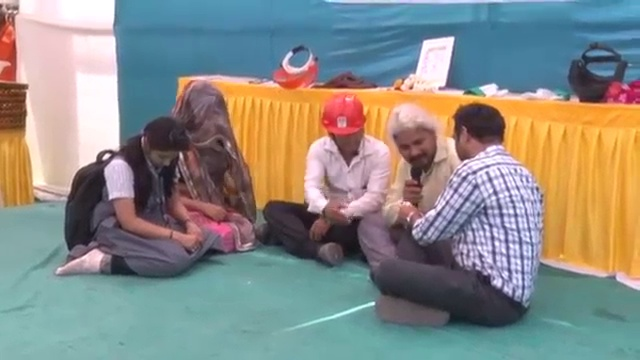helmet: (317, 93, 366, 138)
helmet_off: (385, 104, 448, 173), (446, 102, 511, 167), (174, 82, 230, 145), (137, 117, 189, 171)
helmet_on: (319, 96, 370, 159)
person: (367, 94, 545, 324), (54, 113, 213, 277), (253, 87, 398, 260), (165, 69, 257, 256), (361, 102, 461, 260)
